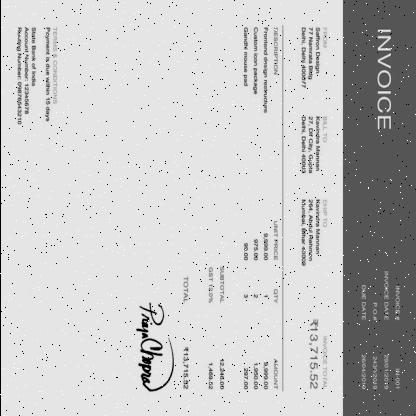Paragraph: (180, 264, 226, 392), (360, 268, 400, 392), (14, 24, 58, 126), (300, 197, 328, 268), (298, 24, 328, 90), (300, 114, 328, 176), (376, 28, 392, 130), (306, 316, 327, 390)
Table: (233, 25, 283, 392)
